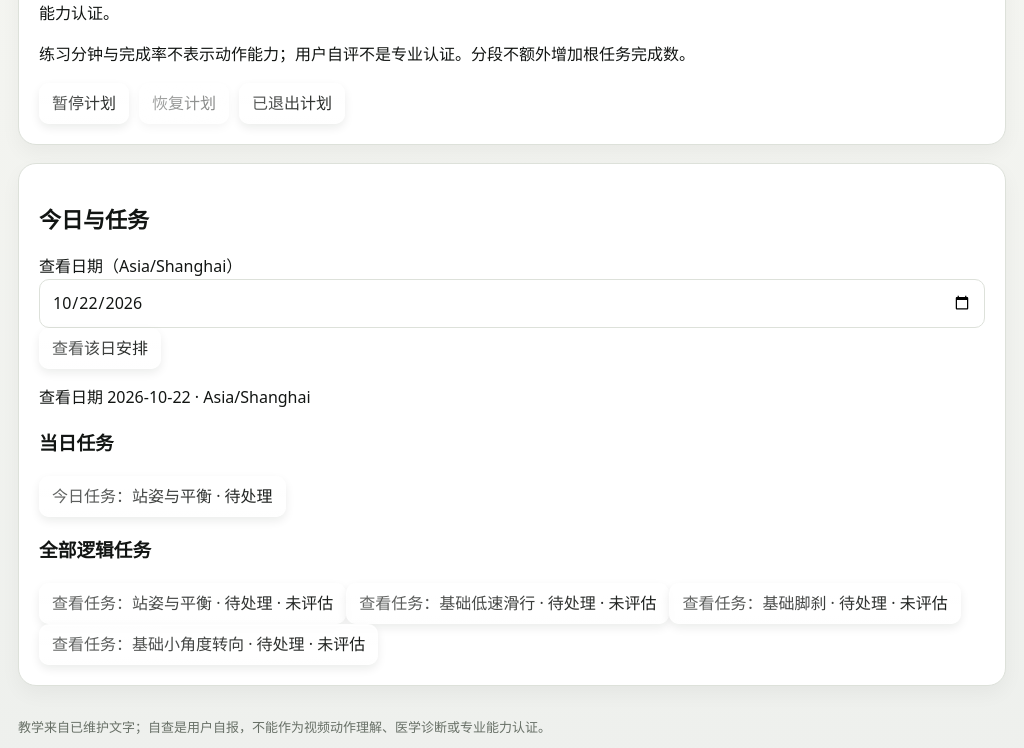
it: uses real-service shapes: version0, self-report statistics, rest day and readable source excerpts
(page scrolled)
Click the button "查看任务：站姿与平衡 · 待处理 · 未评估": click(193, 604) [39, 583, 346, 624]
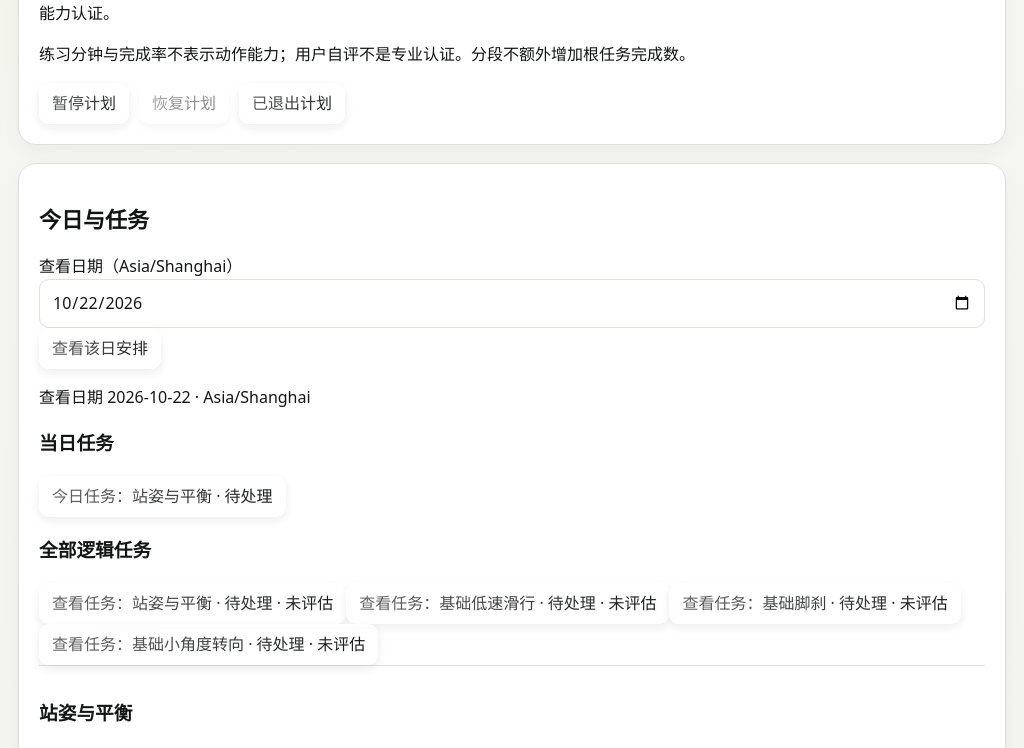
Click the button "查看该日安排": click(100, 348) [39, 328, 161, 369]
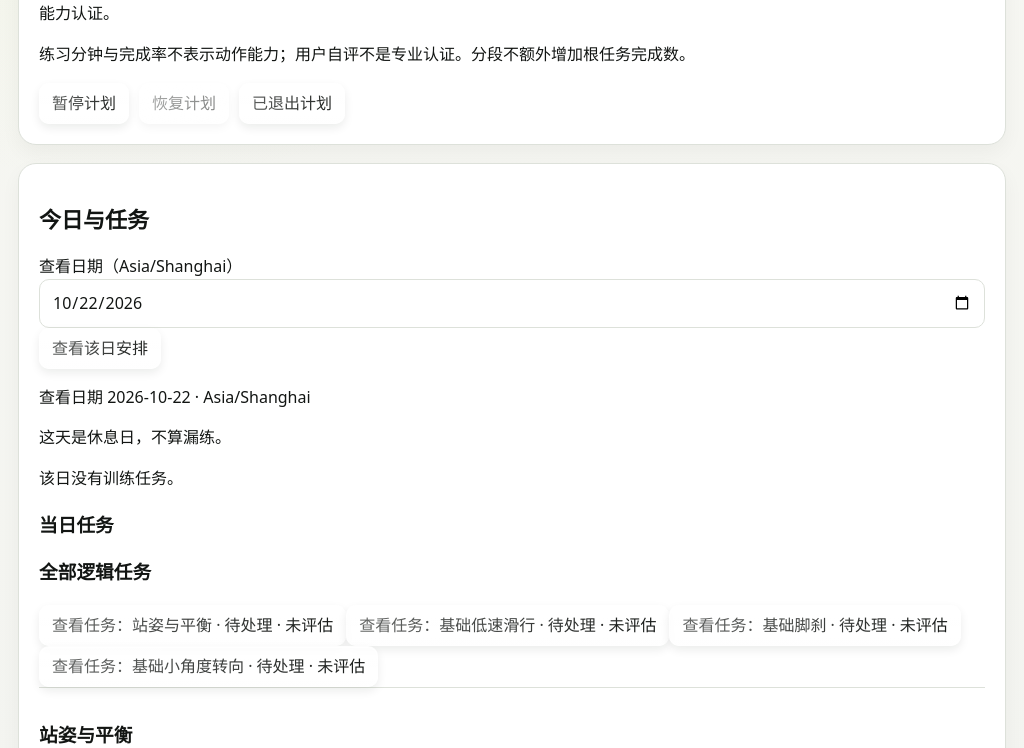
Result: the text "休息日，不算漏练" is shown at [39, 426, 231, 448]
